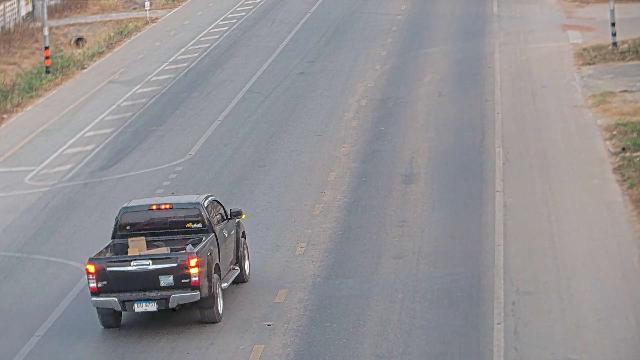pickup-truck: (85, 192, 251, 329)
